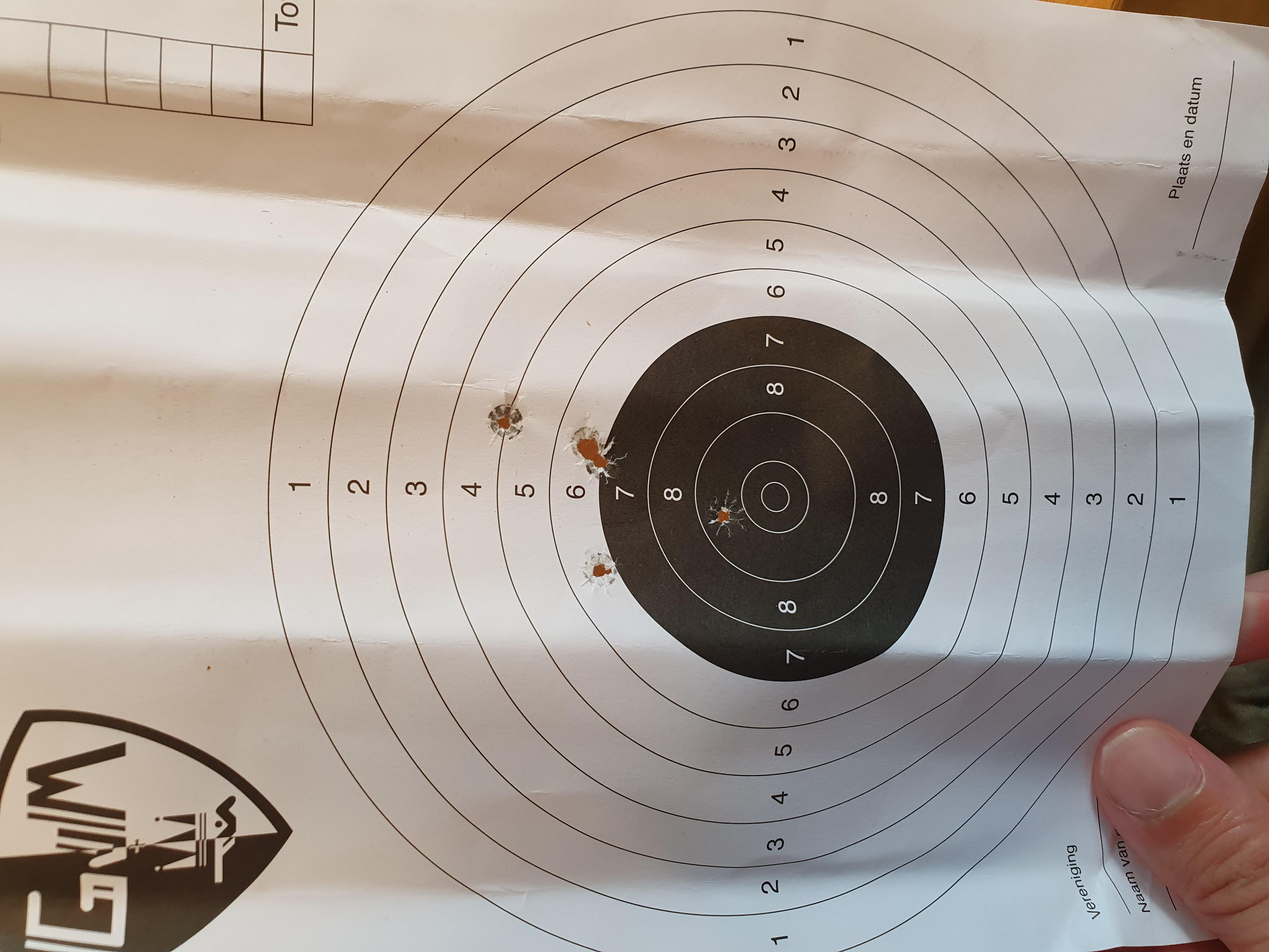hole: (675, 364, 746, 394), (556, 530, 618, 562), (655, 423, 708, 456), (483, 436, 543, 464), (622, 436, 665, 467)
